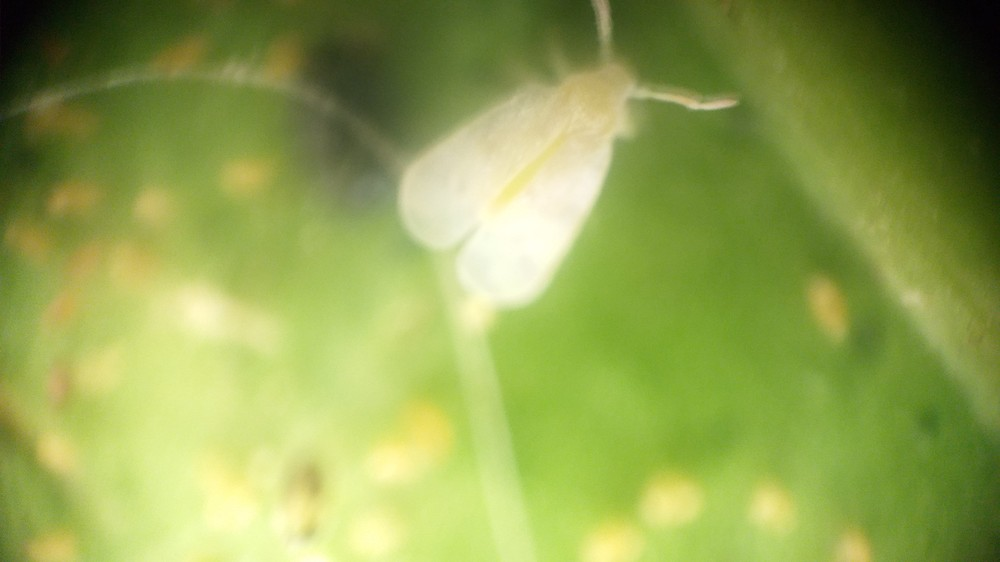Mosca Blanca: (387, 1, 752, 319)
